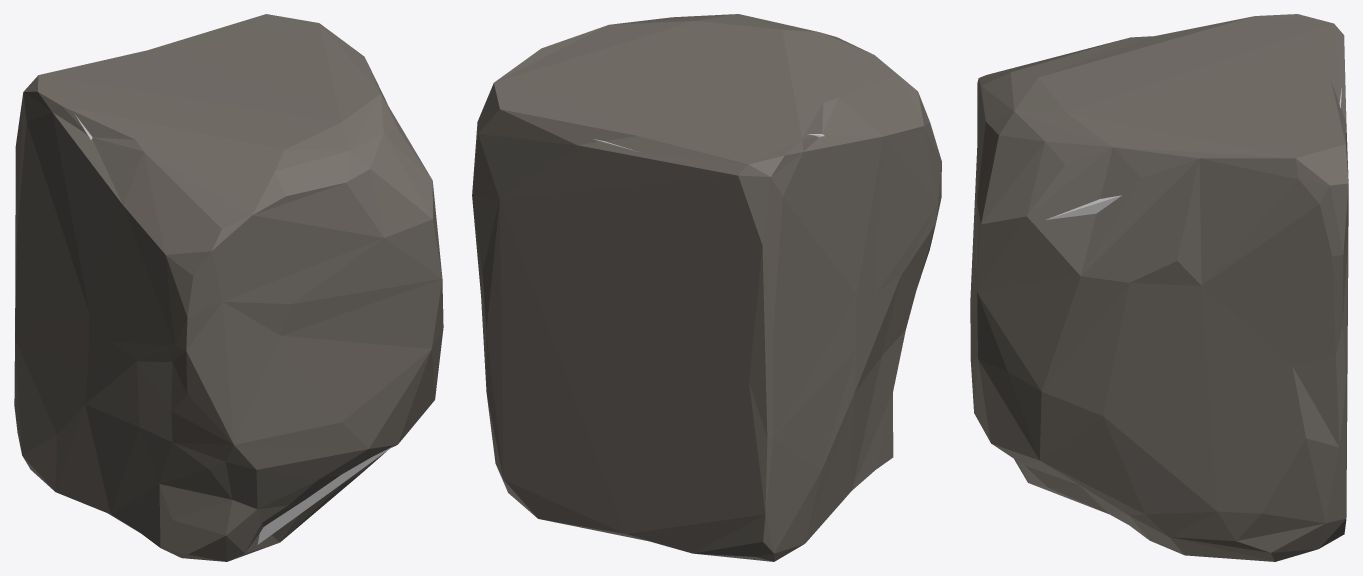
File: SM_Env_Rock_Square_01.fbx
3 views of the same model, side by side, from view 1: azimuth 30°, elevation 25°; view 2: azimuth 150°, elevation 25°; view 3: azimuth 270°, elevation 25° (orthographic). The views are drawn at different scales.
Parts seen in each view (by area): view 1: SM_Env_Rock_Square_01, SM_Env_Rock_Square_01_ConvexHulls; view 2: SM_Env_Rock_Square_01; view 3: SM_Env_Rock_Square_01, SM_Env_Rock_Square_01_ConvexHulls.
Part boxes in pixels (box(x1,y1,x2,y2)): SM_Env_Rock_Square_01: box(14, 14, 443, 561); SM_Env_Rock_Square_01_ConvexHulls: box(75, 115, 393, 544); SM_Env_Rock_Square_01: box(472, 14, 941, 561); SM_Env_Rock_Square_01: box(970, 14, 1348, 561); SM_Env_Rock_Square_01_ConvexHulls: box(1046, 88, 1341, 219).
Bounding box in the file's own units: 731 × 747 × 912.
Materials: 2 (1 with a texture image).
